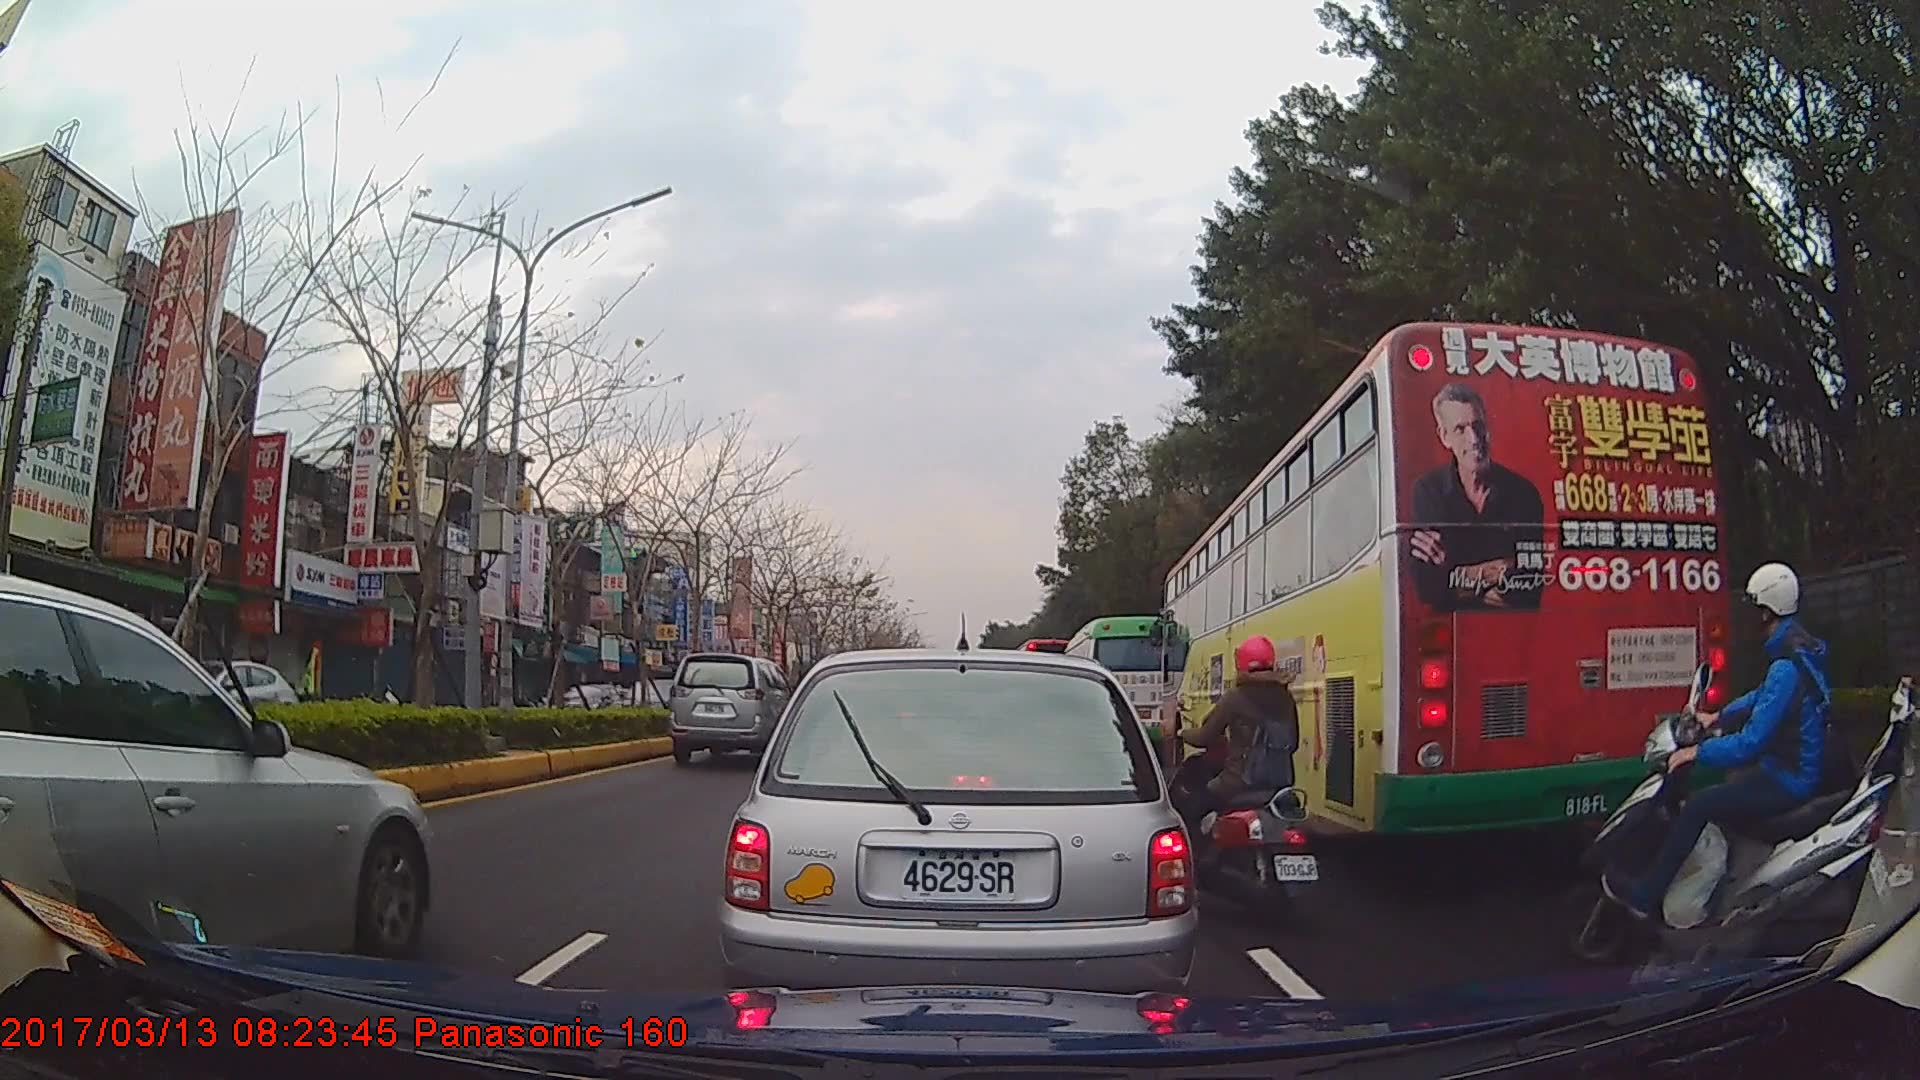rider: (1542, 564, 1901, 972), (1157, 632, 1314, 936), (1841, 571, 1920, 898)
vehicle: (1160, 320, 1727, 854), (716, 645, 1195, 1032), (0, 568, 431, 996), (1061, 617, 1185, 755), (667, 650, 805, 767), (139, 656, 298, 741), (546, 678, 628, 722)
